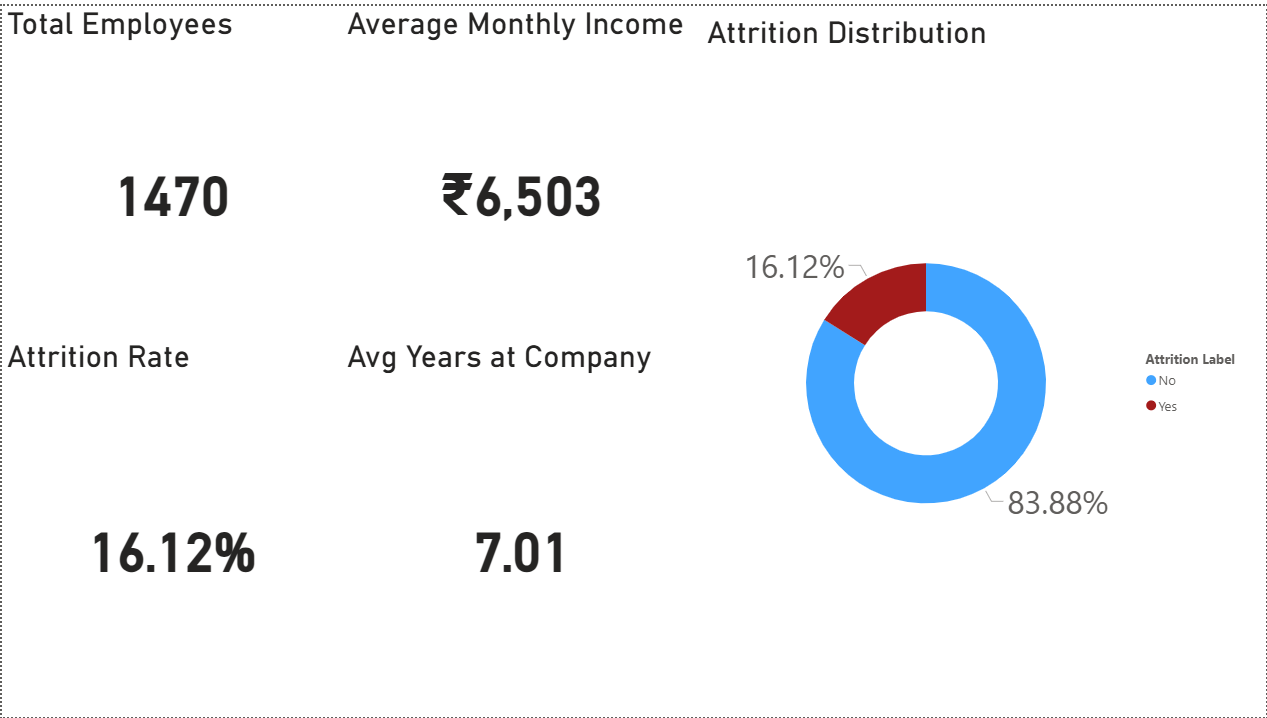

This screenshot's page, from the dashboard's own definition file:
{"tool":"powerbi","page":{"name":"Overview","canvas":[1280,720],"ordinal":0},"visuals":[{"type":"card","title":"Total Employees","fields":{"Values":["CountNonNull(cleaned_hr_attrition.Attrition)"]},"box":[0,0,344.4,336.2],"z":0},{"type":"card","title":"Attrition Rate","fields":{"Values":["cleaned_hr_attrition.Attrition Rate %"]},"box":[0,336.3,344.8,384],"z":1000},{"type":"card","title":"Average Monthly Income","fields":{"Values":["Avg(cleaned_hr_attrition.MonthlyIncome)"]},"box":[344.8,0,364.4,336.3],"z":2000},{"type":"card","title":"Avg Years at Company","fields":{"Values":["Avg(cleaned_hr_attrition.YearsAtCompany)"]},"box":[344.8,336.3,364.4,384],"z":3000},{"type":"donutChart","title":"Attrition Distribution","fields":{"Category":["cleaned_hr_attrition.Attrition Label"],"Y":["CountNonNull(cleaned_hr_attrition.Attrition Label)"]},"box":[709.2,8.6,560.1,711.7],"z":4000}]}

Visuals, with their boxes in screenshot pixels (x1, y1, x2, y2), scaled from the page's 1280x720 canvas onto the 1267x718 screenshot:
"Total Employees" card: (left=0, top=0, right=341, bottom=335)
"Attrition Rate" card: (left=0, top=335, right=341, bottom=717)
"Average Monthly Income" card: (left=341, top=0, right=702, bottom=335)
"Avg Years at Company" card: (left=341, top=335, right=702, bottom=717)
"Attrition Distribution" donutChart: (left=702, top=9, right=1256, bottom=717)
